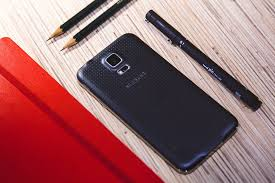mobil: (75, 30, 239, 175)
